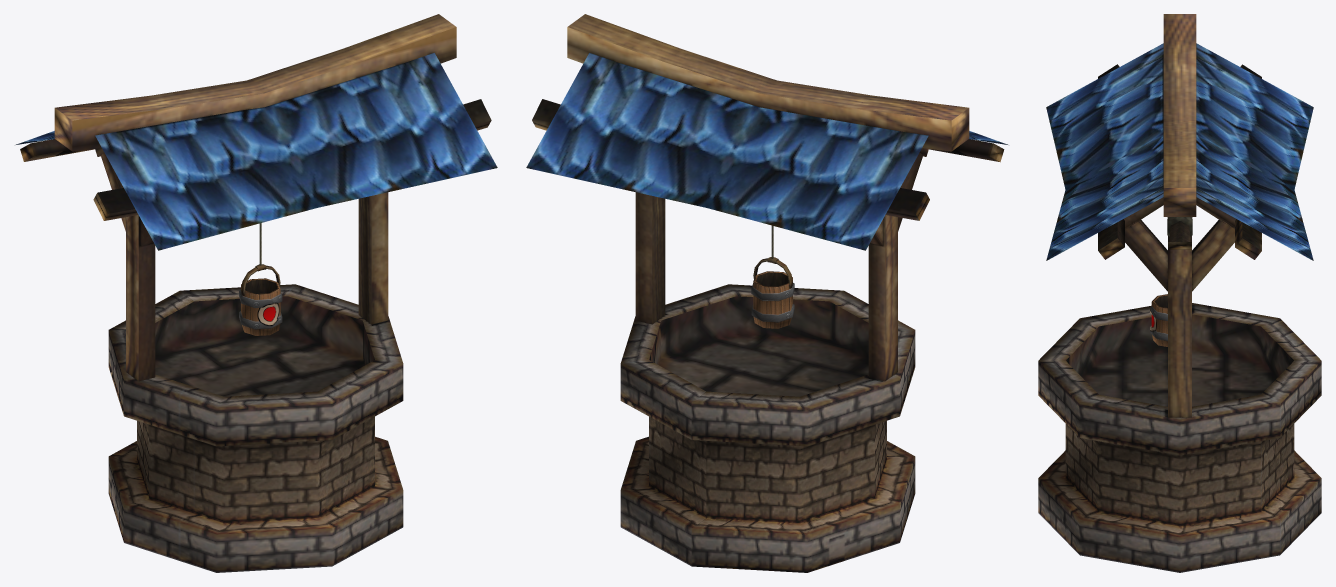
File: Well01.fbx
3 views of the same model, side by side, from view 1: azimuth 30°, elevation 25°; view 2: azimuth 150°, elevation 25°; view 3: azimuth 270°, elevation 25° (orthographic). The views are drawn at different scales.
Visible parts, largest first — view 1: polySurface156, polySurface157; view 2: polySurface156, polySurface157; view 3: polySurface156, polySurface157.
Boxes of the visible parts, x1,y1,x2,y2 form: polySurface156: (16, 14, 497, 572); polySurface157: (239, 223, 282, 335); polySurface156: (526, 14, 1007, 572); polySurface157: (751, 225, 794, 328); polySurface156: (1038, 14, 1321, 572); polySurface157: (1150, 294, 1167, 346).
Size of the model in its own units: 18.91 by 20.85 by 12.99.
